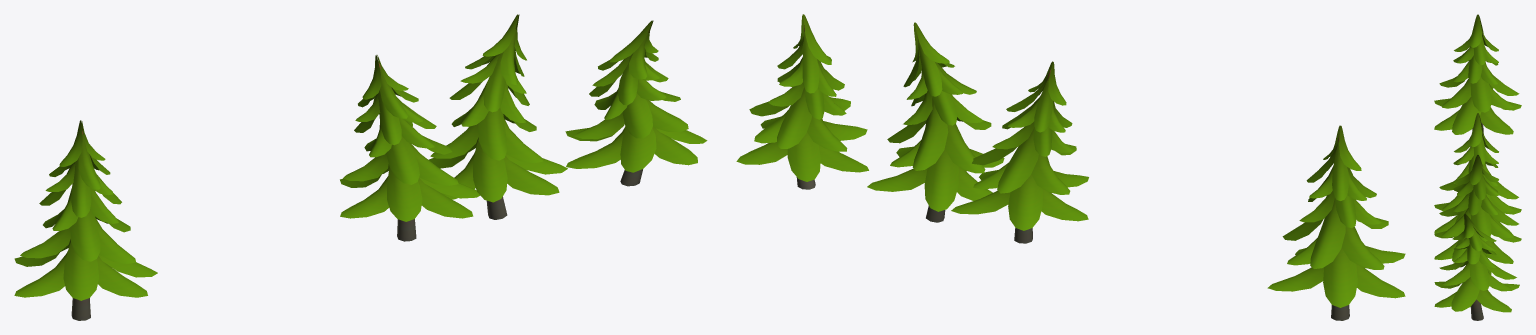
File: pines.fbx
The picture shows the model from 3 angles, left to right: view 1: azimuth 30°, elevation 25°; view 2: azimuth 150°, elevation 25°; view 3: azimuth 270°, elevation 25°; orthographic projection. The views are drawn at different scales.
Parts seen in each view (by area): view 1: pine00, pine02, pine01, pine03; view 2: pine00, pine02, pine01, pine03; view 3: pine00, pine03, pine02, pine01.
Boxes of the visible parts, x1,y1,x2,y2 form: pine00: [14, 120, 157, 320]; pine02: [428, 14, 567, 219]; pine01: [340, 55, 479, 241]; pine03: [565, 20, 707, 186]; pine00: [1267, 125, 1405, 320]; pine02: [867, 22, 1004, 222]; pine01: [951, 61, 1088, 243]; pine03: [736, 14, 868, 189]; pine00: [1434, 14, 1521, 134]; pine03: [1434, 213, 1519, 320]; pine02: [1434, 155, 1521, 263]; pine01: [1434, 113, 1521, 237].
Size of the model in its own units: 1561 by 437 by 268.
